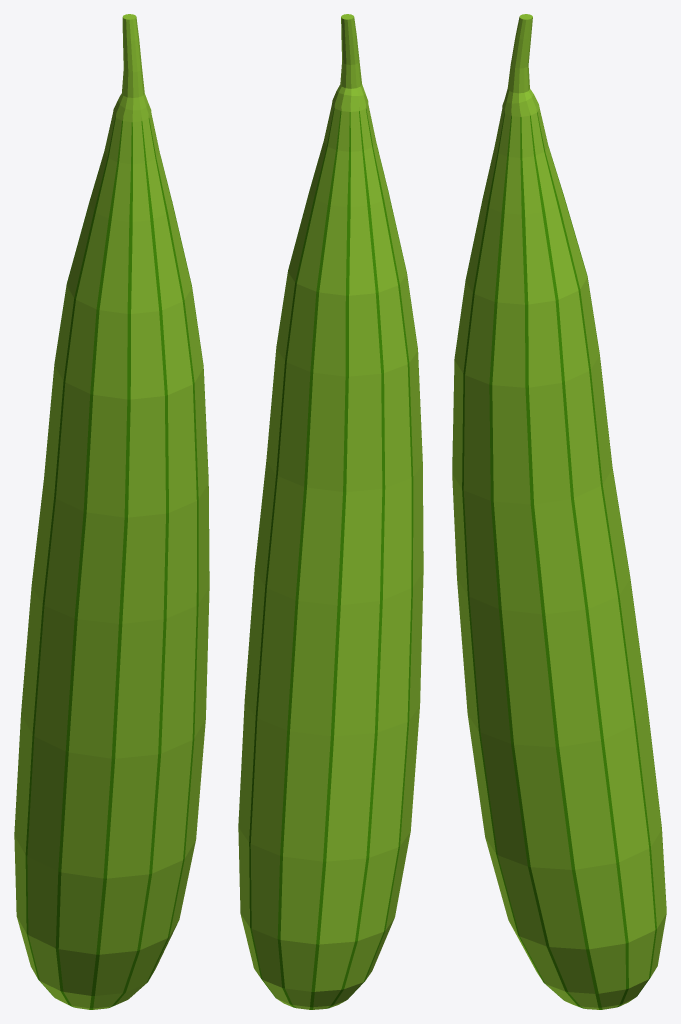
Rendered from loofah.fbx.
The picture shows the model from 3 angles, left to right: view 1: azimuth 30°, elevation 25°; view 2: azimuth 150°, elevation 25°; view 3: azimuth 270°, elevation 25°; orthographic projection. The views are drawn at different scales.
Visible parts, largest first — view 1: Circle; view 2: Circle; view 3: Circle.
Part boxes in pixels (box(x1,y1,x2,y2)): Circle: box(14, 14, 209, 1009); Circle: box(238, 14, 423, 1009); Circle: box(452, 14, 666, 1009).
Bounding box in the file's own units: 53.41 × 322 × 63.67.
